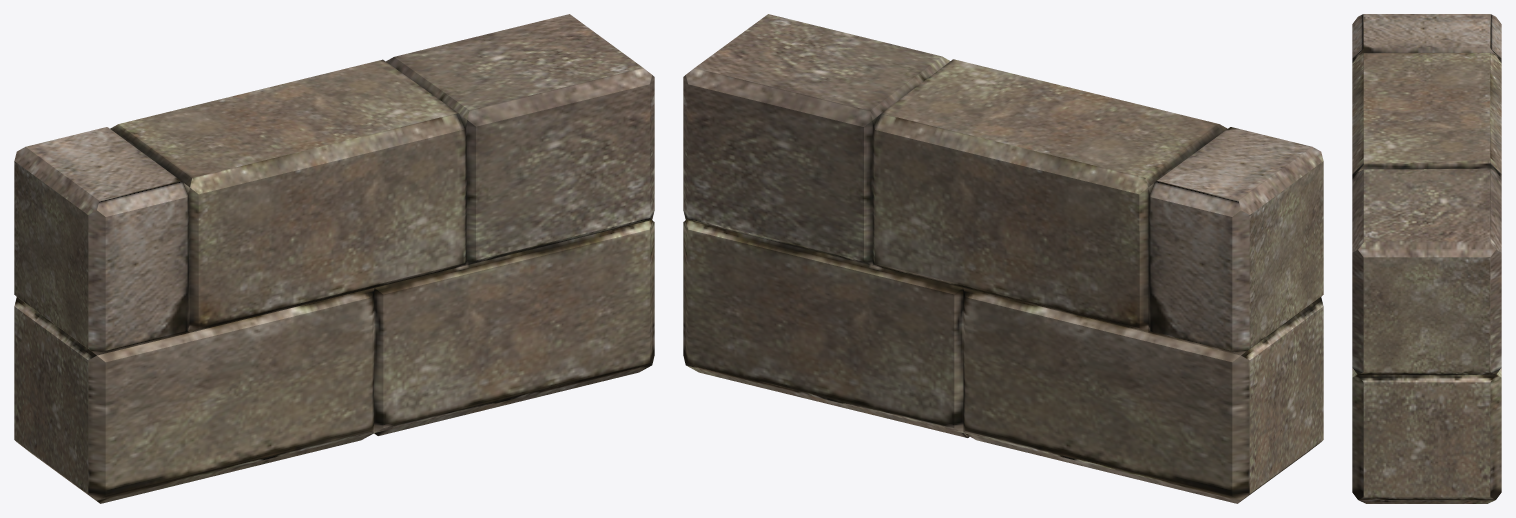
Rendered from Wall1_H0.3.obj.
3 renders of one model, left to right at view 1: azimuth 30°, elevation 25°; view 2: azimuth 150°, elevation 25°; view 3: azimuth 270°, elevation 25°, orthographic. The views are drawn at different scales.
Parts seen in each view (by area): view 1: Box002; view 2: Box002; view 3: Box002.
Boxes of the visible parts, x1,y1,x2,y2 form: Box002: [14, 14, 654, 503]; Box002: [683, 14, 1323, 503]; Box002: [1352, 14, 1501, 503].
Bounding box in the file's own units: 2.04 × 1.05 × 0.54.
1 material, 1 textured.
